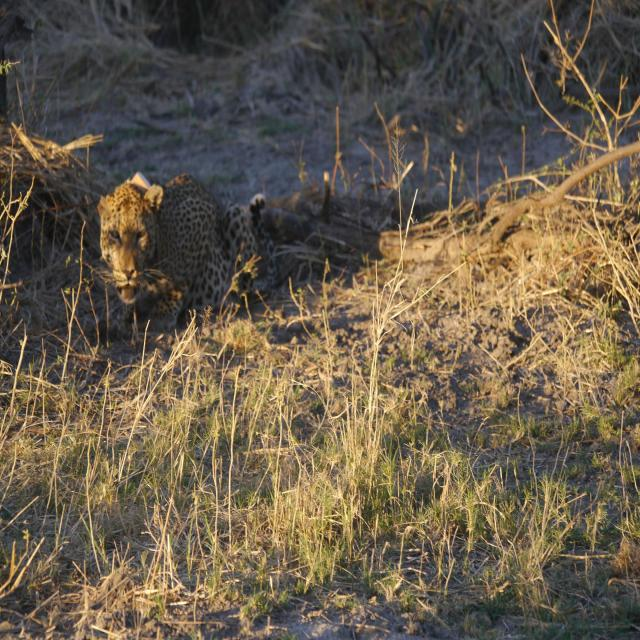Leopard: (99, 160, 271, 346)
